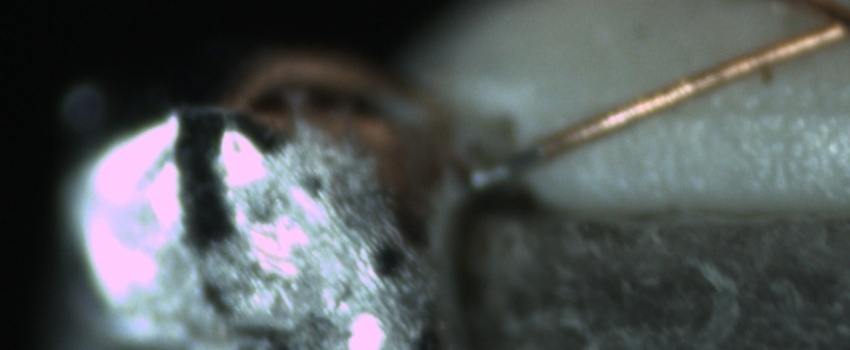DL: (667, 80, 850, 145)
TS: (468, 144, 540, 194)
